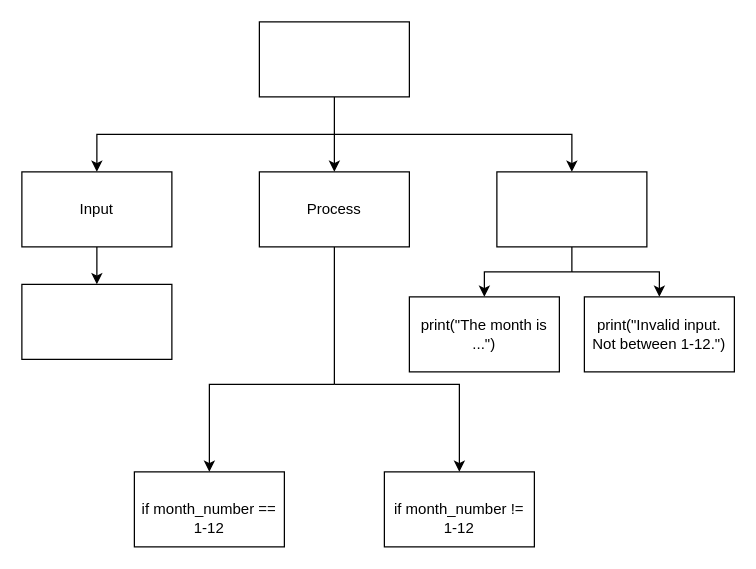
The diagram is 756 pixels wide and 569 high, and some of its shapes have lost their labels. Each missing label, with the centre of its shape:
Get month_number: the point at 96,321
input_month: the point at 333,59
Output: the point at 571,209
